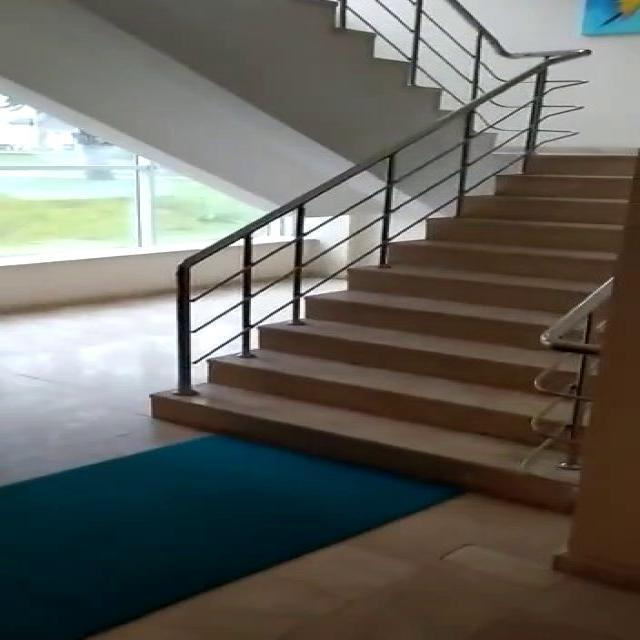stairs: (148, 151, 636, 511)
